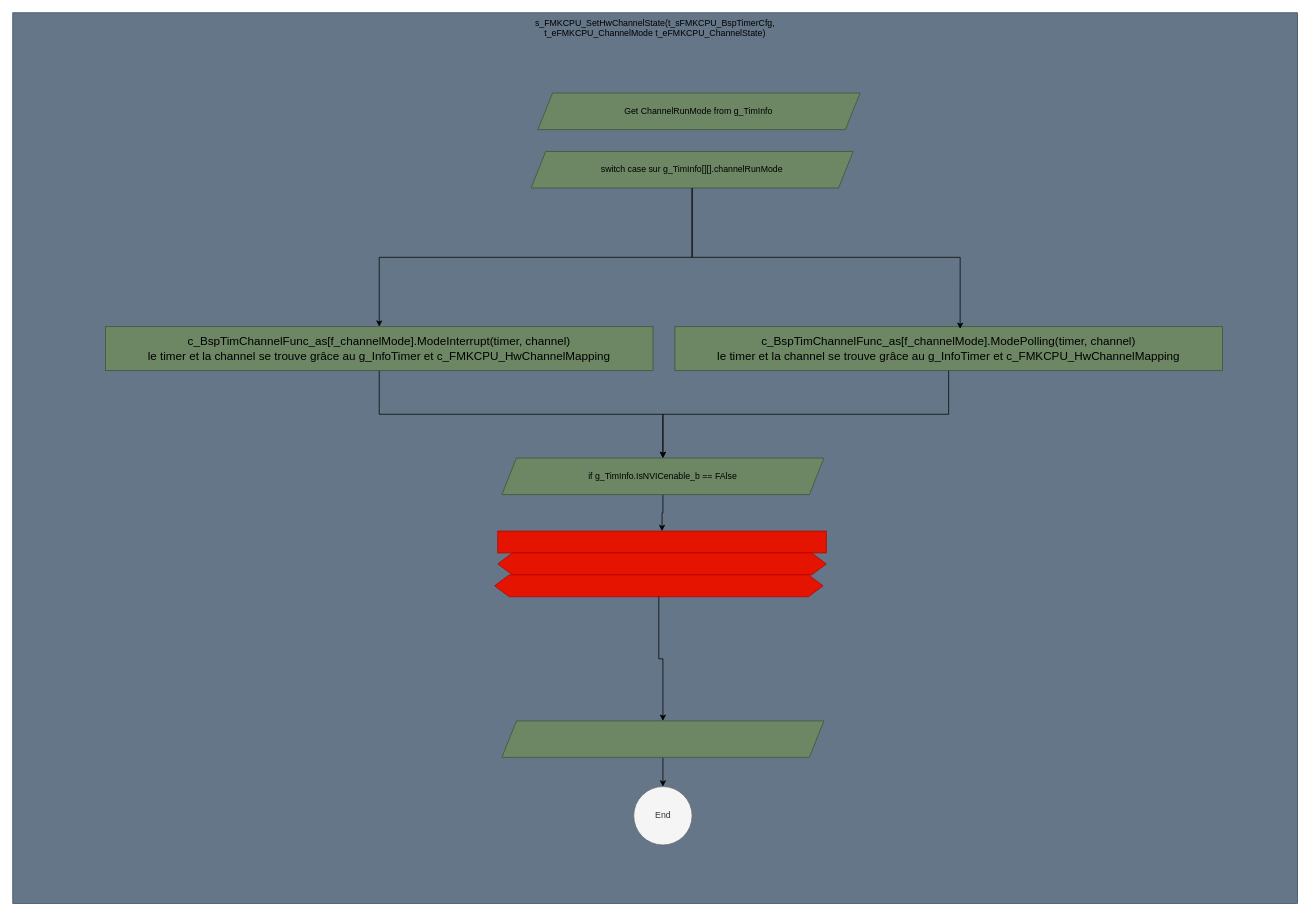
Image size: 1310x916. Some labels were removed from this diagram. Each missing label, with the box of its shape:
FMKCPU_NVIC_OPE_ENABLE: (494, 574, 823, 597)
FMKCPU_SetNVICState: (497, 530, 826, 553)
g_TimerInfo[Interrupt_e].IRQNType: (497, 552, 826, 575)
Update g_TiMInfo et channelInfo: (501, 720, 824, 757)
